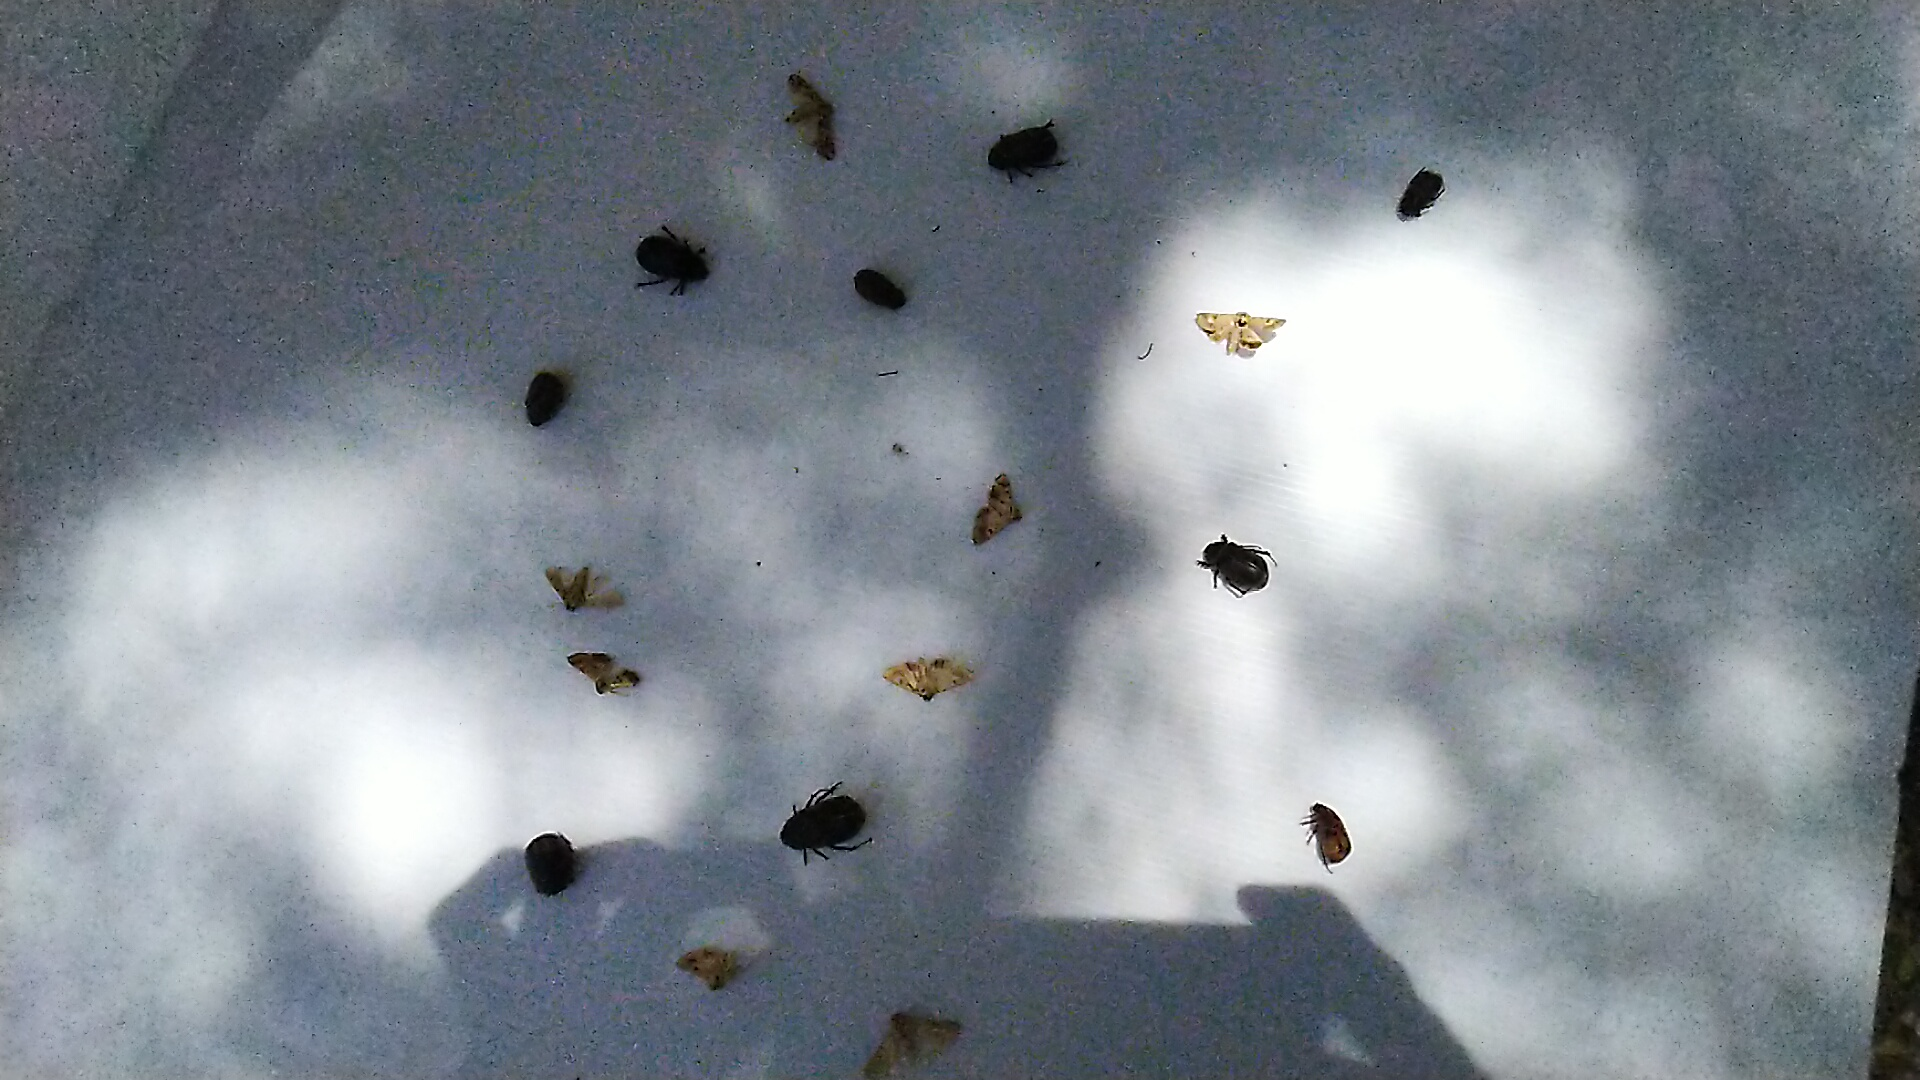INS-A: (775, 781, 884, 862), (1193, 527, 1280, 605), (632, 222, 713, 298), (986, 117, 1069, 187), (521, 829, 580, 899), (1298, 799, 1352, 874), (1394, 162, 1452, 223), (848, 265, 913, 316), (525, 367, 566, 429)
INS-B: (855, 1007, 965, 1080), (777, 69, 843, 161), (539, 560, 628, 616)
INS-C: (1193, 306, 1294, 361), (878, 655, 976, 702), (566, 644, 645, 696), (967, 473, 1025, 545)
